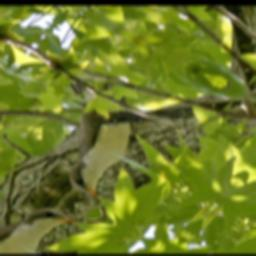Cuckoo: (2, 69, 180, 205)
